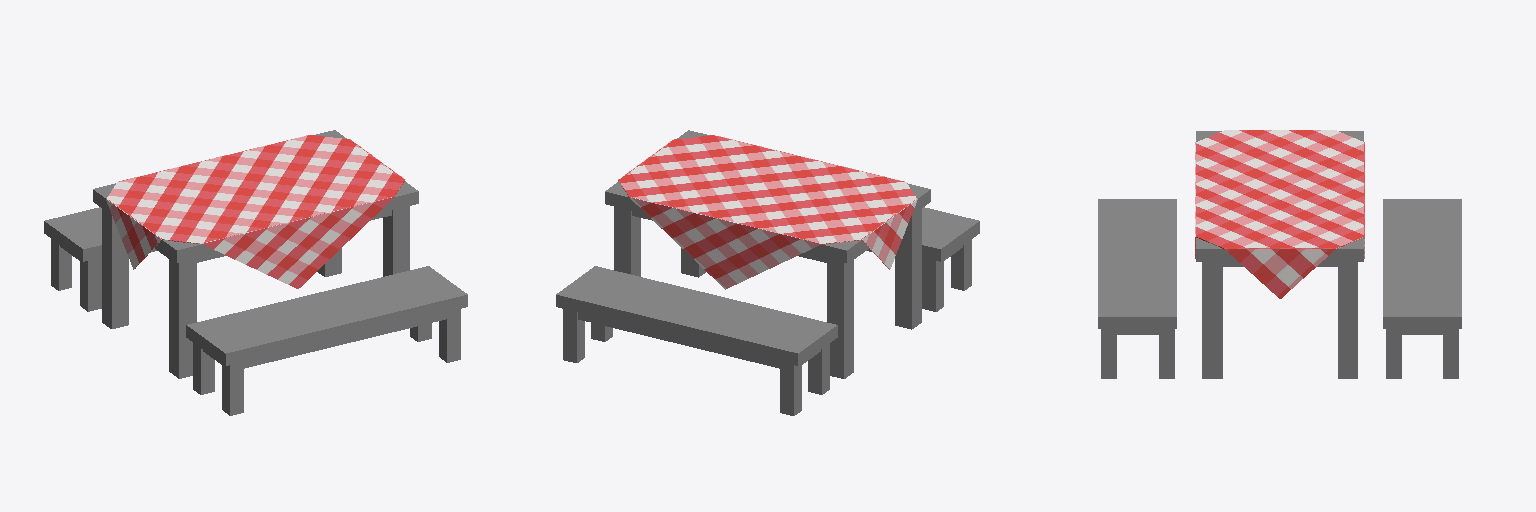
3 renders of one model, left to right at view 1: azimuth 30°, elevation 25°; view 2: azimuth 150°, elevation 25°; view 3: azimuth 270°, elevation 25°, orthographic.
Parts seen in each view (by area): view 1: Box008, Box018, Box006, Box005, Box009, Box001, Box004, Box019, Box015, Box021, Box023, Box020 (+1 smaller); view 2: Box008, Box009, Box005, Box006, Box018, Box001, Box003, Box010, Box020, Box013, Box016, Box015 (+1 smaller); view 3: Box008, Box009, Box018, Box004, Box003, Box001, Box016, Box017, Box022, Box023.
Boxes of the visible parts, x1,y1,x2,y2 form: Box008: [106, 135, 405, 288]; Box018: [186, 266, 467, 365]; Box006: [169, 258, 196, 378]; Box005: [102, 209, 128, 328]; Box009: [44, 207, 101, 261]; Box001: [93, 130, 418, 262]; Box004: [383, 206, 409, 276]; Box019: [203, 312, 446, 368]; Box015: [80, 258, 101, 311]; Box021: [222, 362, 243, 415]; Box023: [439, 309, 460, 362]; Box020: [193, 343, 214, 394]; Box008: [618, 135, 917, 289]; Box009: [556, 266, 837, 365]; Box005: [827, 258, 853, 378]; Box006: [895, 209, 921, 329]; Box018: [922, 207, 979, 261]; Box001: [605, 130, 930, 262]; Box003: [614, 206, 640, 276]; Box010: [578, 313, 820, 368]; Box020: [922, 258, 943, 311]; Box013: [780, 362, 801, 415]; Box016: [563, 309, 584, 362]; Box015: [808, 343, 829, 394]; Box008: [1195, 130, 1364, 298]; Box009: [1383, 199, 1461, 328]; Box018: [1098, 199, 1176, 328]; Box004: [1202, 262, 1222, 378]; Box003: [1338, 262, 1357, 378]; Box001: [1196, 131, 1363, 261]; Box016: [1443, 329, 1458, 378]; Box017: [1386, 329, 1401, 378]; Box022: [1159, 329, 1174, 378]; Box023: [1101, 329, 1116, 378].
Bounding box in the file's own units: 102 × 53.13 × 131.
2 materials, 1 textured.